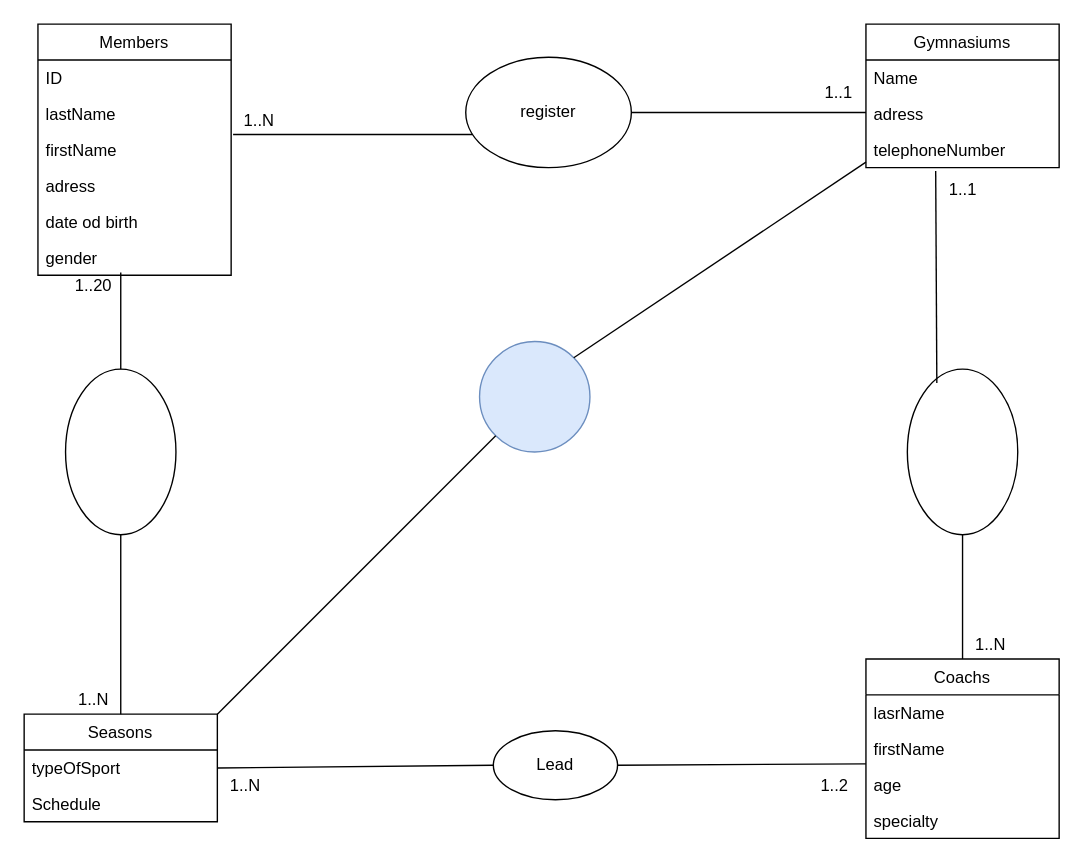
Some shapes in this 1083 by 867 pixel diagram are drawn without their labels. Each missing label, with the centre of its shape:
Attend: (120,451)
contains: (534,396)
work: (962,451)
